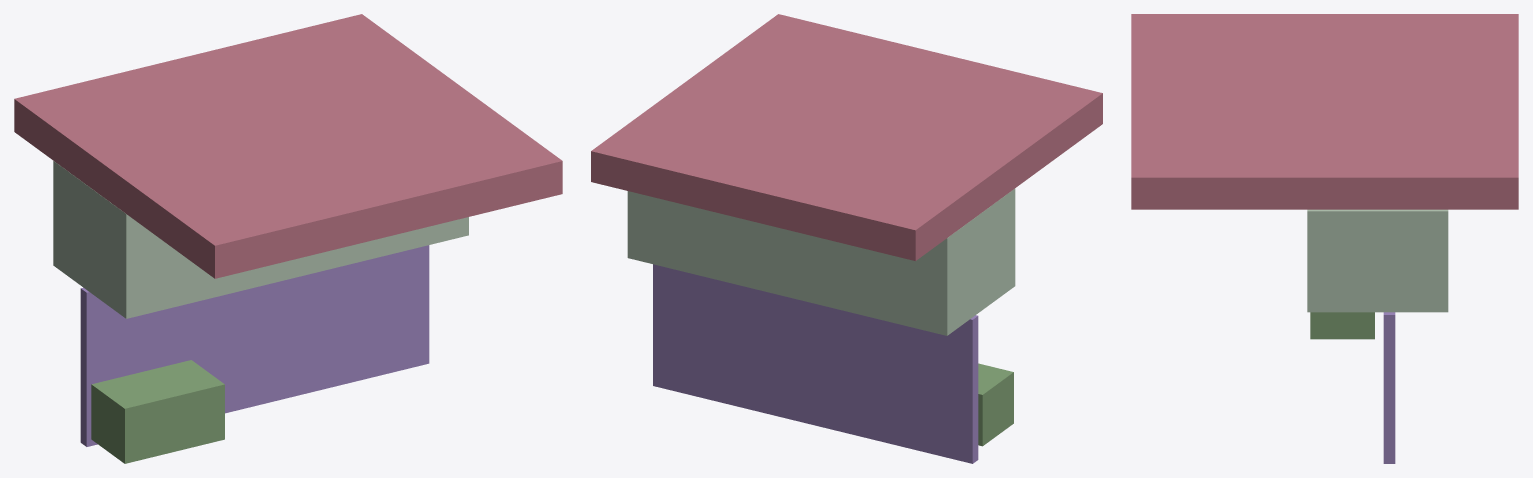
Rendered from 199516_pred.glb.
3 views of the same model, side by side, from view 1: azimuth 30°, elevation 25°; view 2: azimuth 150°, elevation 25°; view 3: azimuth 270°, elevation 25° (orthographic). The views are drawn at different scales.
Parts seen in each view (by area): view 1: world; view 2: world; view 3: world.
Part boxes in pixels (left/top/right/bottom): world: left=14, top=14, right=562, bottom=463; world: left=591, top=14, right=1102, bottom=463; world: left=1131, top=14, right=1518, bottom=463.
Size of the model in its own units: 6.6 by 5.4 by 6.6.
